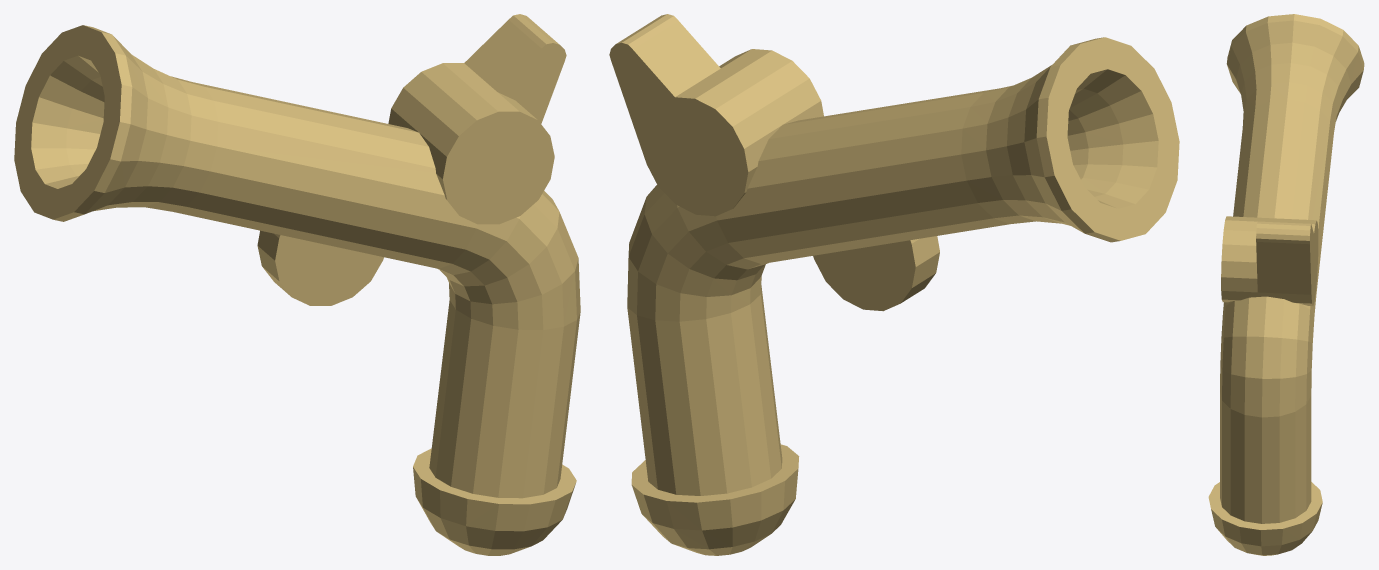
The model's file is JokerGun.fbx.
3 views of the same model, side by side, from view 1: azimuth 30°, elevation 25°; view 2: azimuth 150°, elevation 25°; view 3: azimuth 270°, elevation 25° (orthographic). The views are drawn at different scales.
Parts seen in each view (by area): view 1: MB_5-material.008; view 2: MB_5-material.008; view 3: MB_5-material.008.
Part boxes in pixels (x1,y1,x2,y2): MB_5-material.008: [14, 14, 580, 555]; MB_5-material.008: [609, 14, 1179, 555]; MB_5-material.008: [1208, 14, 1364, 555].
Size of the model in its own units: 117 by 129 by 44.3.
